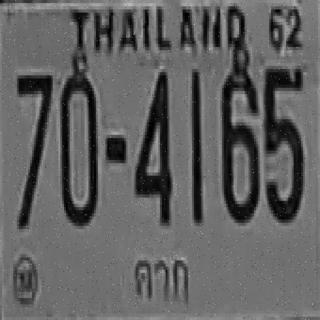N00: (59, 69, 97, 223)
N01: (190, 67, 201, 221)
N04: (134, 69, 172, 223)
N05: (264, 66, 303, 220)
N06: (220, 66, 258, 220)
N07: (15, 72, 51, 226), (15, 72, 51, 179)
P69: (131, 251, 198, 312)
